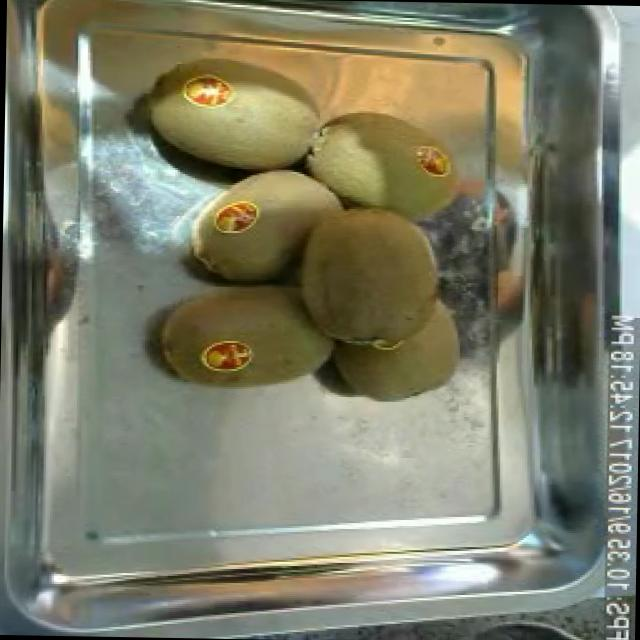Fruit: (286, 21, 502, 238), (282, 190, 472, 410), (150, 271, 340, 390)
